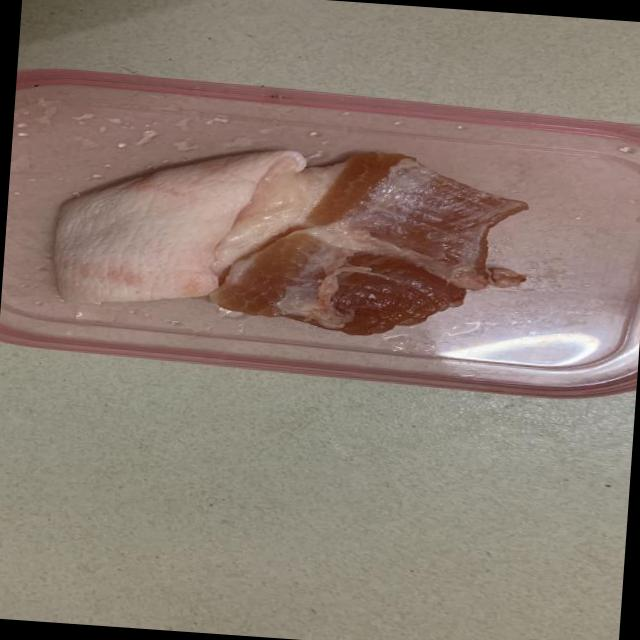chicken: (49, 128, 523, 342)
